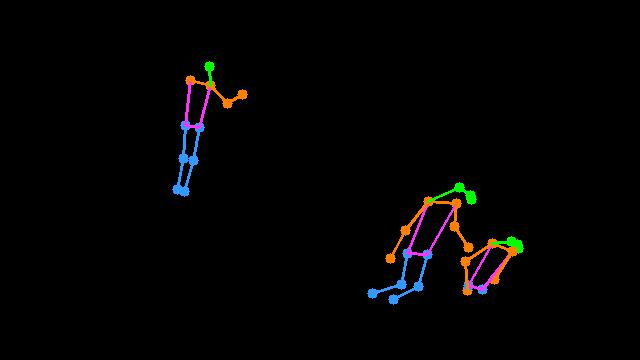normal: (357, 170, 526, 324)
